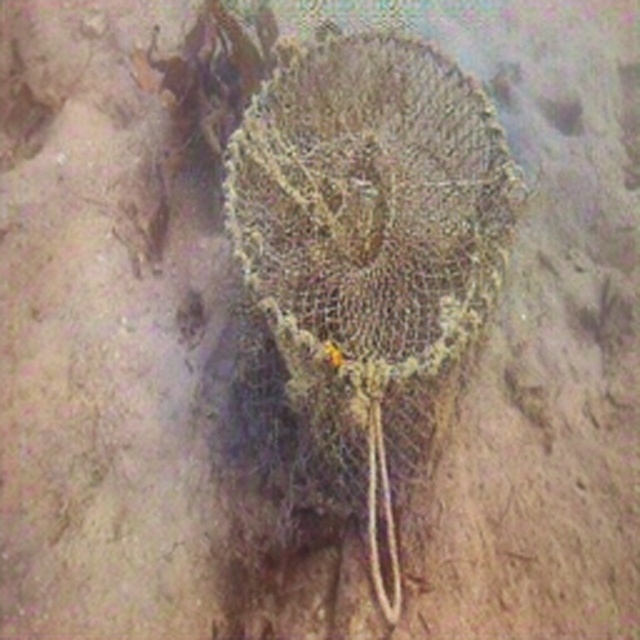mine: (222, 29, 517, 521)
